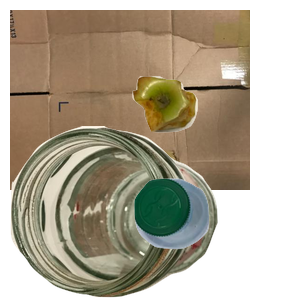cardboard: (10, 10, 250, 190)
glass: (10, 126, 220, 300)
plastic: (132, 176, 300, 300)
trash: (130, 74, 300, 199)
